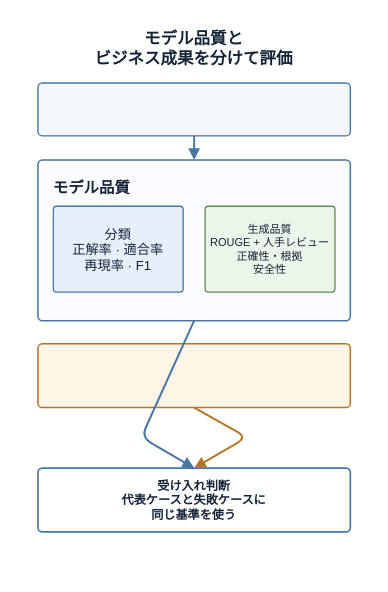
Image size: 388x592. Some labels were removed from this diagram. Here are the shapes that lost their labels. From the top down, the centre of each, then its label:
At [194,109]: "評価計画 代表ケース + 想定される失敗".
At [194,375]: "ビジネス成果 完了時間 · エラー削減 · ユーザー影響".
